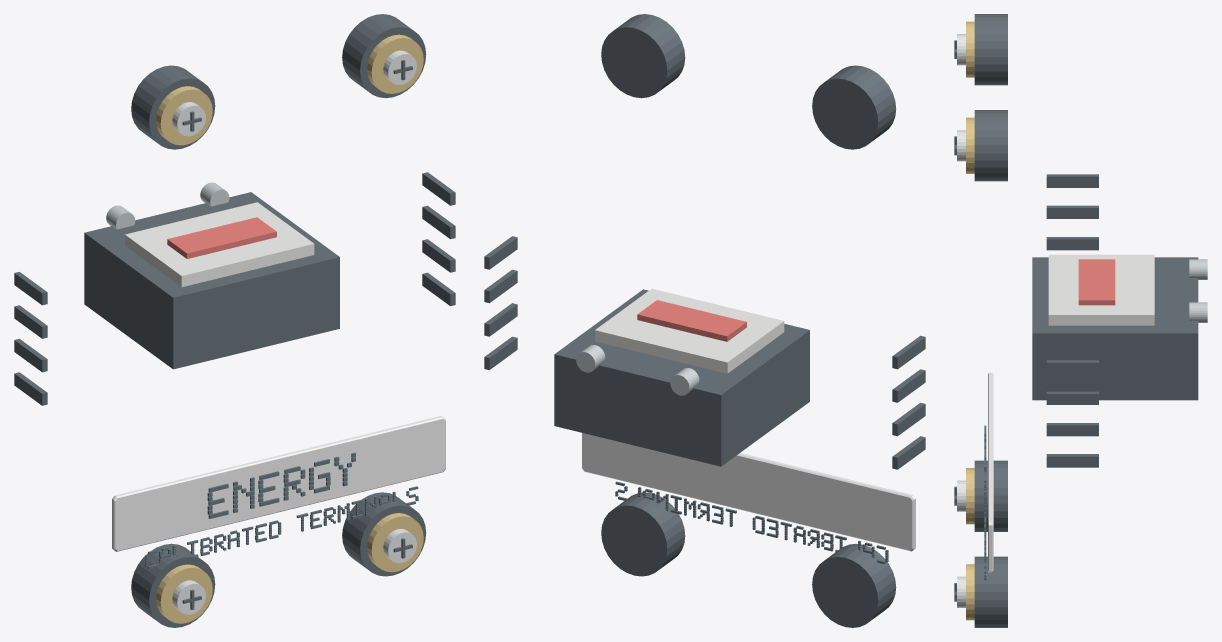
File: digitalCounter.glb
3 views of the same model, side by side, from view 1: azimuth 30°, elevation 25°; view 2: azimuth 150°, elevation 25°; view 3: azimuth 270°, elevation 25° (orthographic). The views are drawn at different scales.
Visible parts, largest first — view 1: digitalCounter-detailed; view 2: digitalCounter-detailed; view 3: digitalCounter-detailed.
Boxes of the visible parts, x1,y1,x2,y2 form: digitalCounter-detailed: (14, 14, 455, 627); digitalCounter-detailed: (484, 14, 925, 627); digitalCounter-detailed: (954, 14, 1207, 627).
Size of the model in its own units: 1.96 by 2.48 by 1.11.
